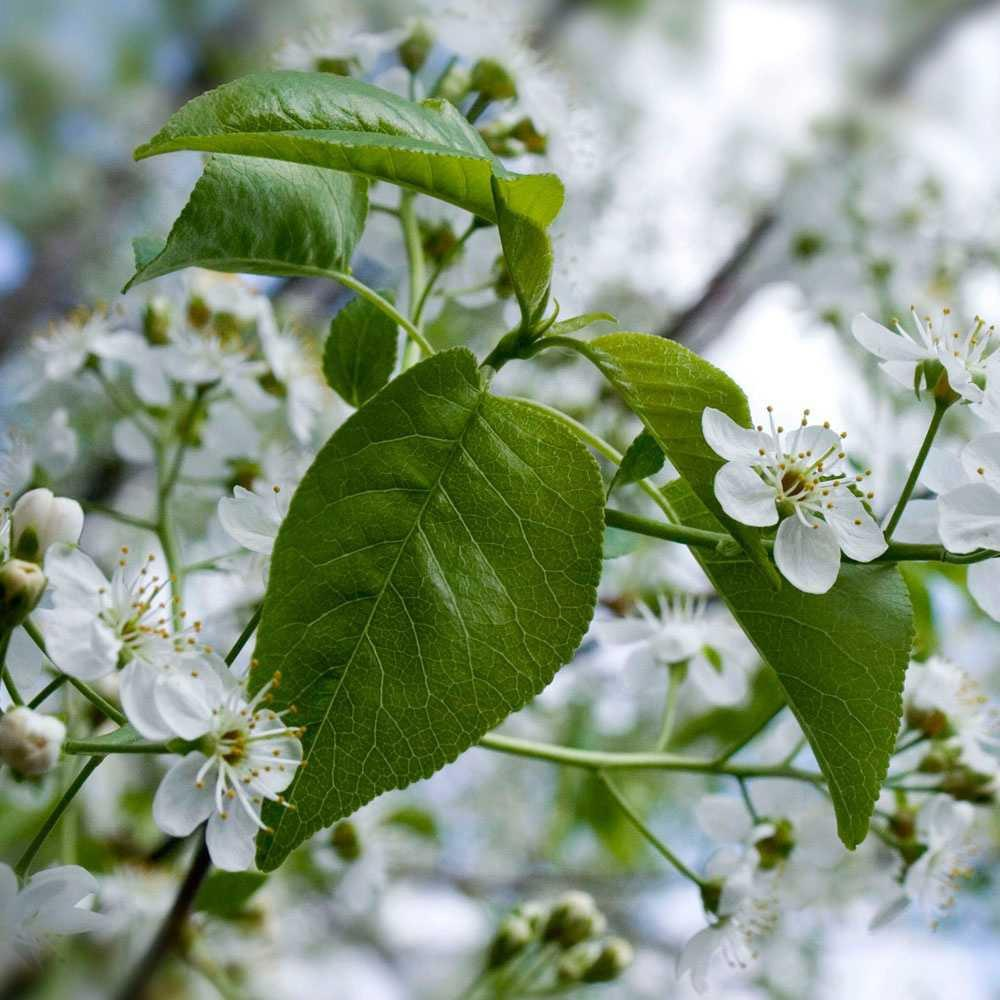Cherry leaf: (235, 321, 621, 934), (538, 298, 785, 554)
